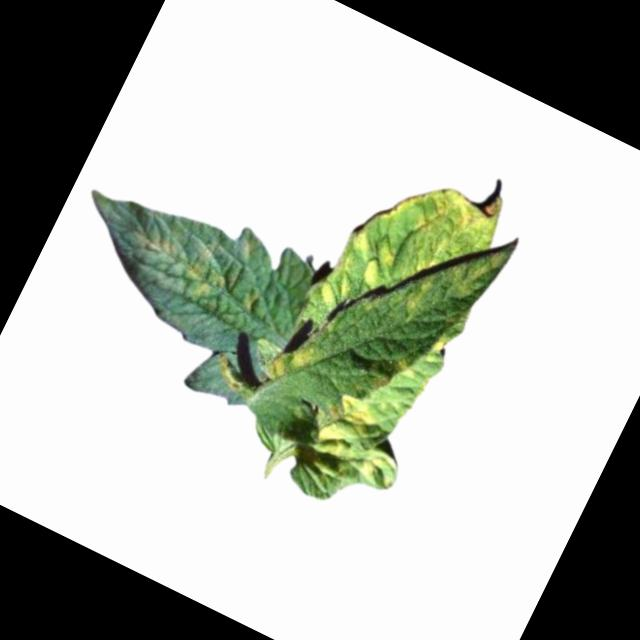Leaf_Mold: (315, 146, 531, 366), (120, 219, 268, 322), (297, 378, 421, 495), (255, 329, 320, 395)
